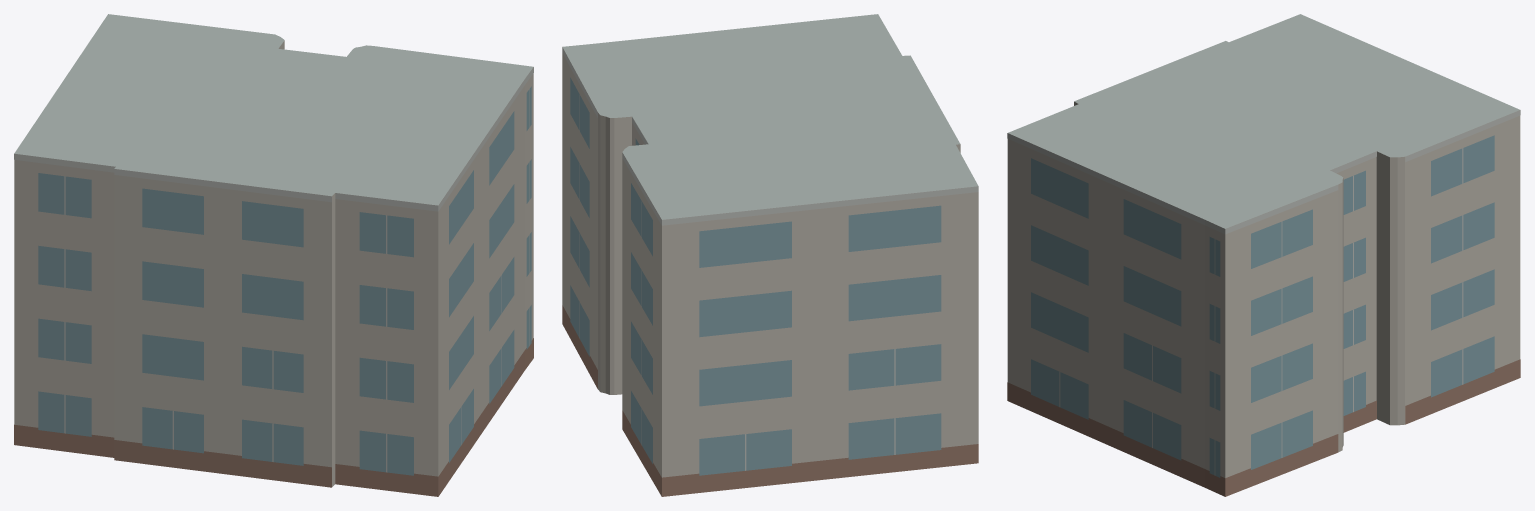
File: survey-upis-32835683.glb
3 renders of one model, left to right at view 1: azimuth 30°, elevation 25°; view 2: azimuth 150°, elevation 25°; view 3: azimuth 270°, elevation 25°, orthographic. The views are drawn at different scales.
Visible parts, largest first — view 1: survey-upis-32835683.tmp; view 2: survey-upis-32835683.tmp; view 3: survey-upis-32835683.tmp.
Part boxes in pixels (x1,y1,x2,y2): survey-upis-32835683.tmp: [14, 14, 533, 496]; survey-upis-32835683.tmp: [562, 14, 978, 496]; survey-upis-32835683.tmp: [1007, 14, 1520, 496].
Size of the model in its own units: 20.13 by 11.7 by 20.3.
